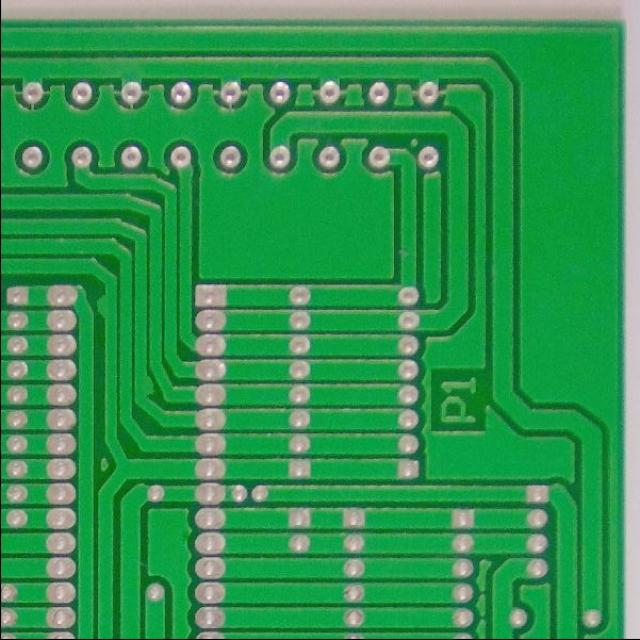Spur: (129, 368, 160, 402), (93, 288, 120, 324)
